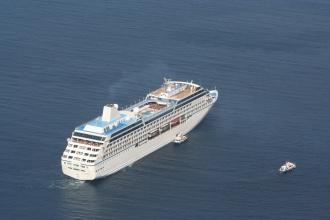otherboat: (277, 161, 295, 172), (174, 132, 187, 144)
youlun: (60, 74, 224, 183)
